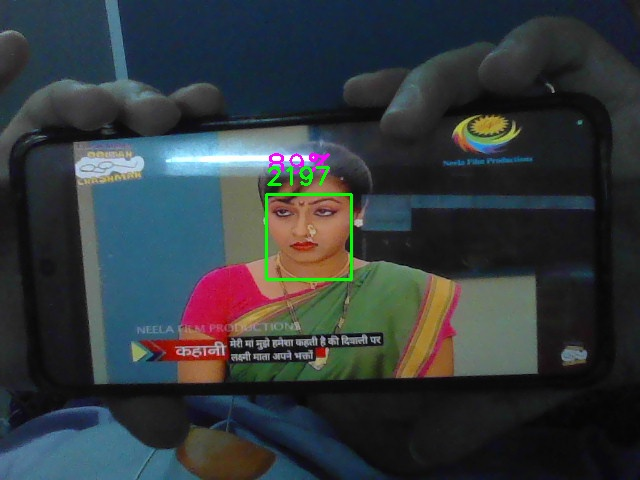fake: (266, 194, 352, 280)
